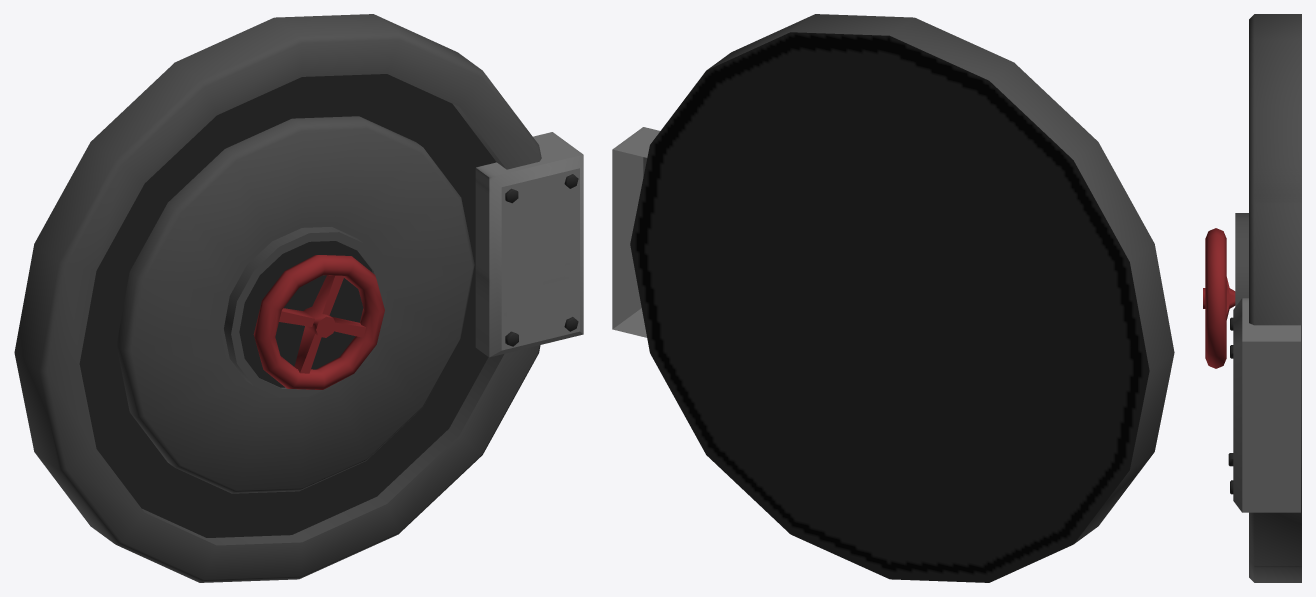
Rendered from portaCofre.fbx.
The picture shows the model from 3 angles, left to right: view 1: azimuth 30°, elevation 25°; view 2: azimuth 150°, elevation 25°; view 3: azimuth 270°, elevation 25°; orthographic projection. The views are drawn at different scales.
Parts seen in each view (by area): view 1: PortaCofre, MacanetaVolante; view 2: PortaCofre; view 3: PortaCofre, MacanetaVolante.
Boxes of the visible parts, left/top/right/bottom form: PortaCofre: left=14, top=14, right=583, bottom=582; MacanetaVolante: left=253, top=255, right=384, bottom=389; PortaCofre: left=612, top=14, right=1174, bottom=582; PortaCofre: left=1228, top=14, right=1301, bottom=582; MacanetaVolante: left=1203, top=228, right=1235, bottom=368.
Bounding box in the file's own units: 324 × 313 × 54.29.
